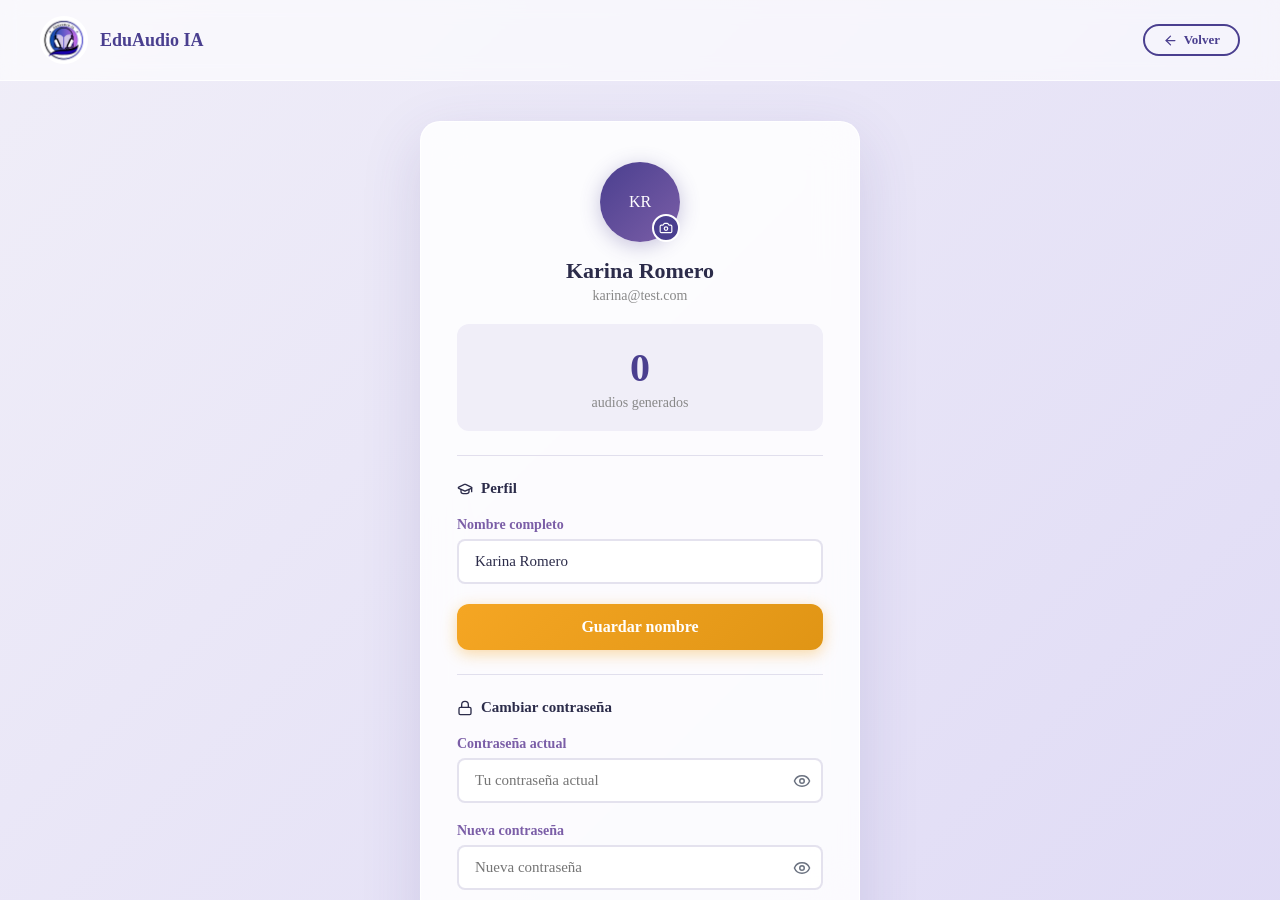
Test: Perfil › valida longitud mínima de contraseña
Type "12345678" into the password field with placeholder "Tu contraseña actual" at (640, 780), box [457,758,823,803]
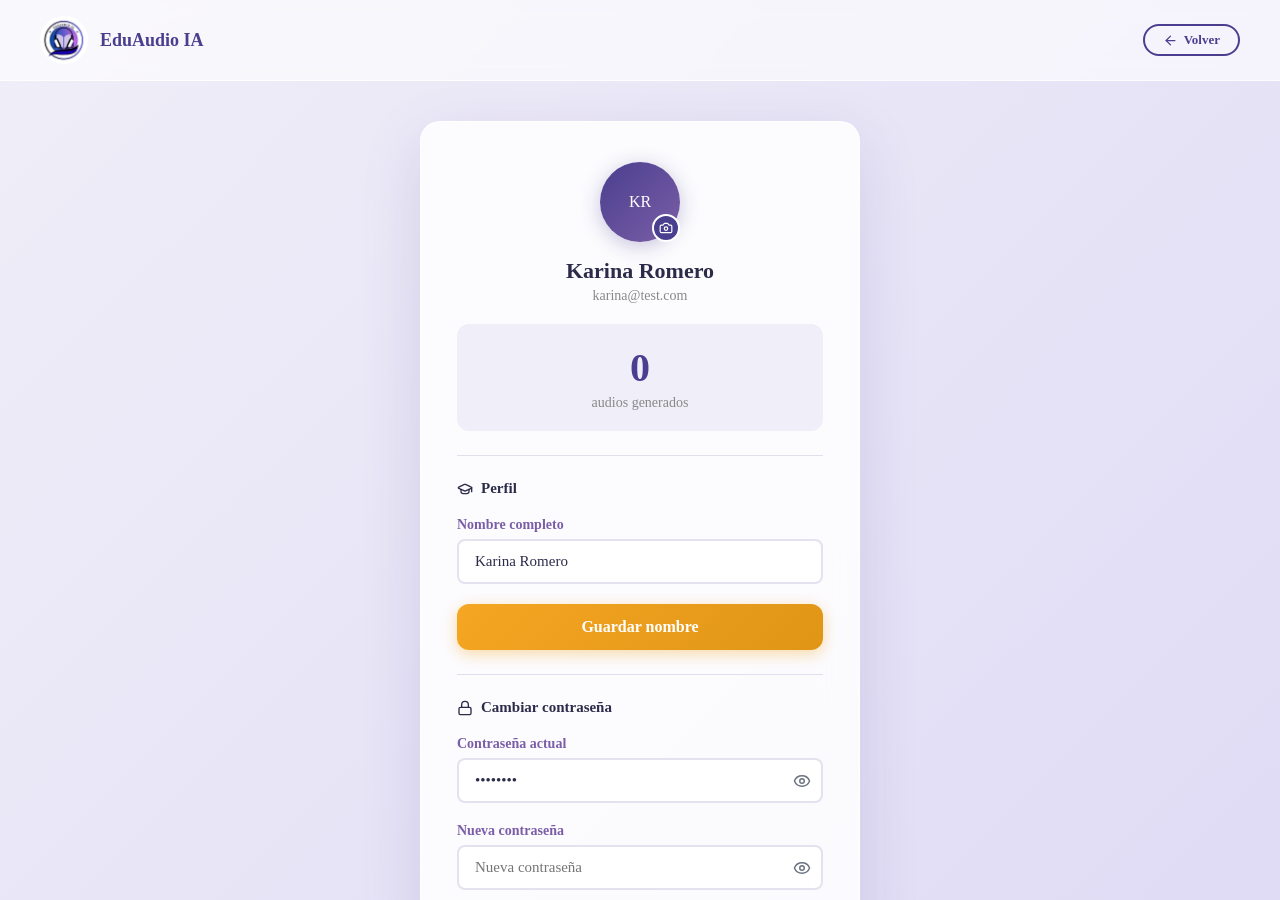
Type "123" into the password field with placeholder "Nueva contraseña" at (640, 868), box [457,845,823,890]
(page scrolled)
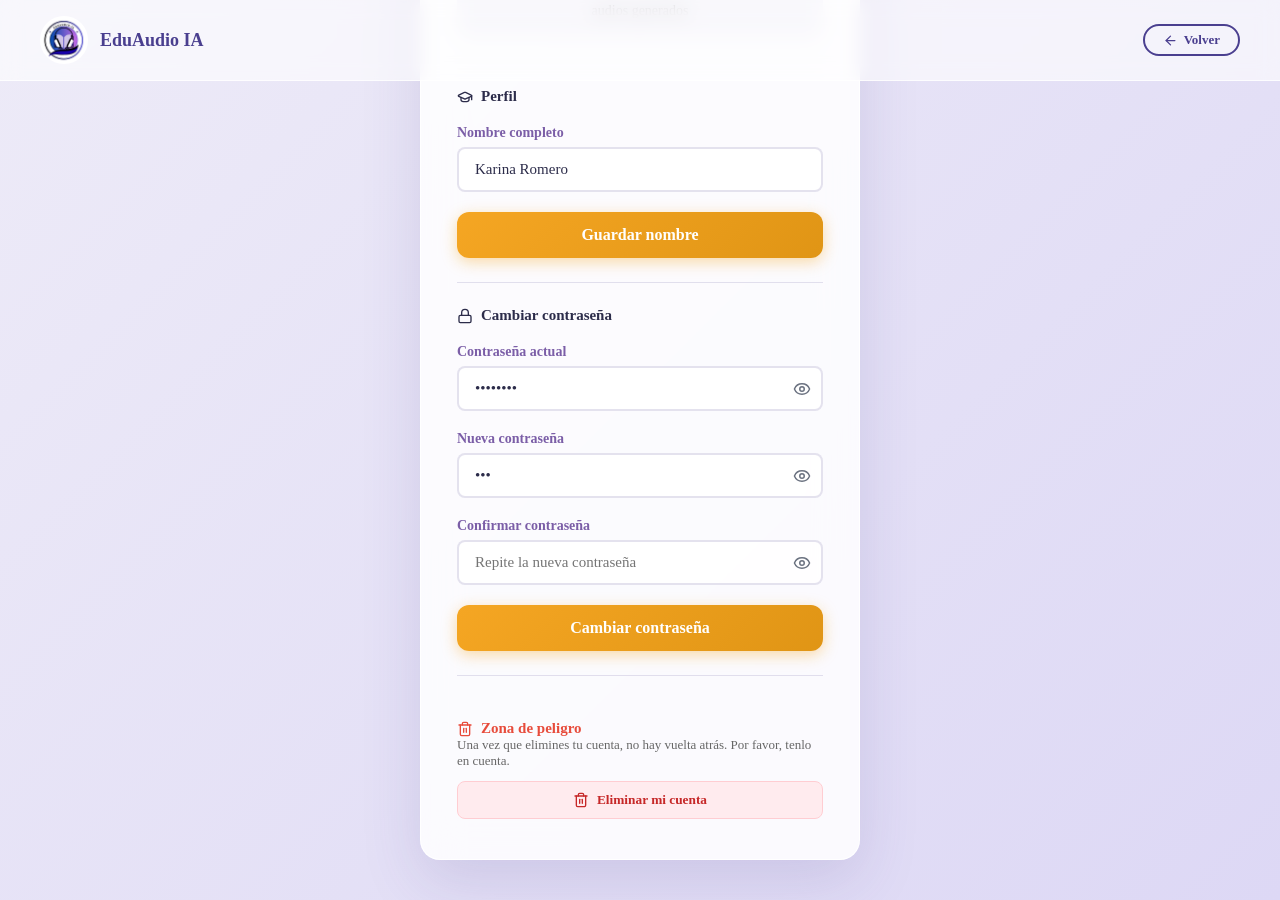
Type "123" into the password field with placeholder "Repite la nueva contraseña" at (640, 562), box [457,540,823,585]
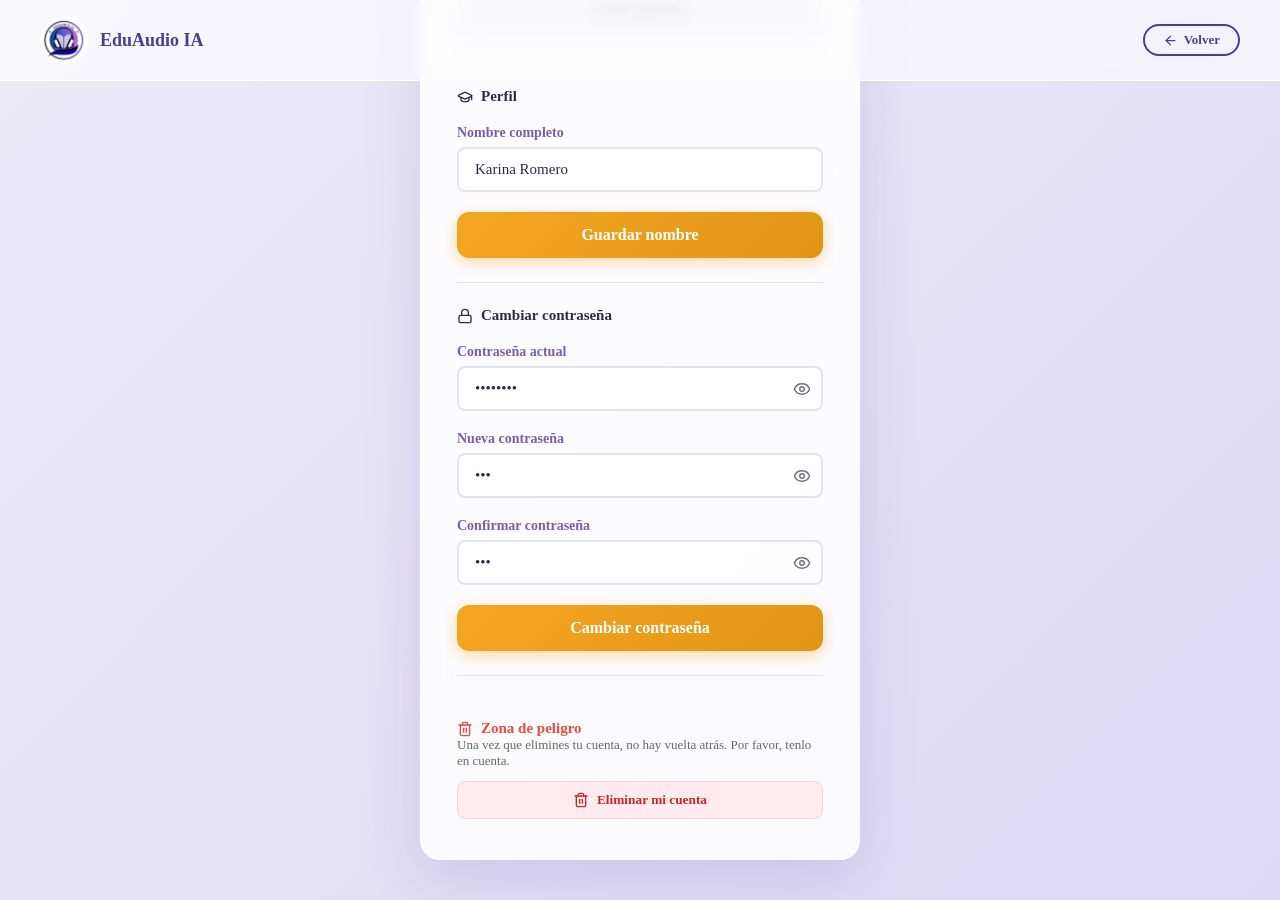
Click the button "Cambiar contraseña" at (640, 628), box [457,605,823,651]
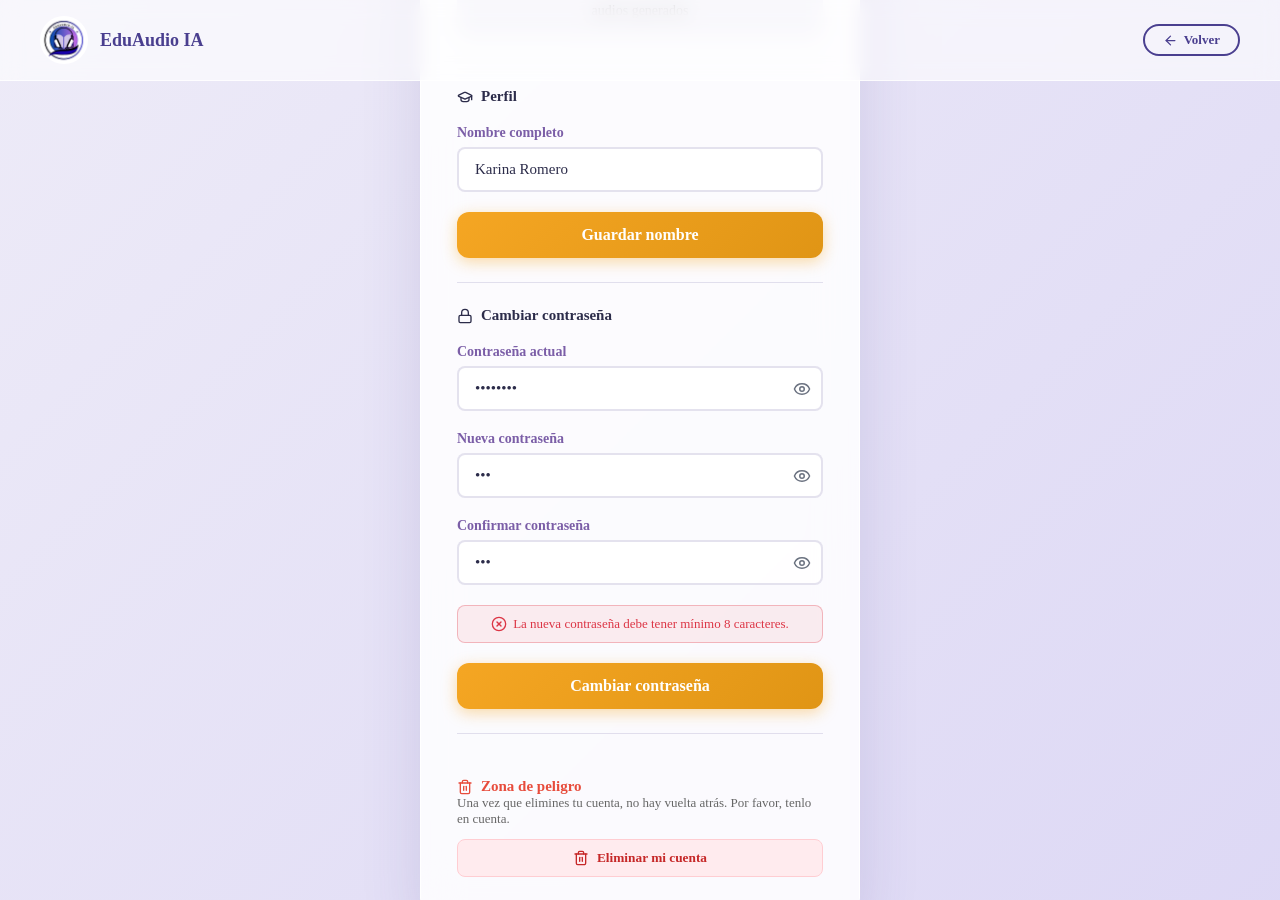
Expected: the text "La nueva contraseña debe tener mínimo 8 caracteres." is shown, [457,605,823,643]
